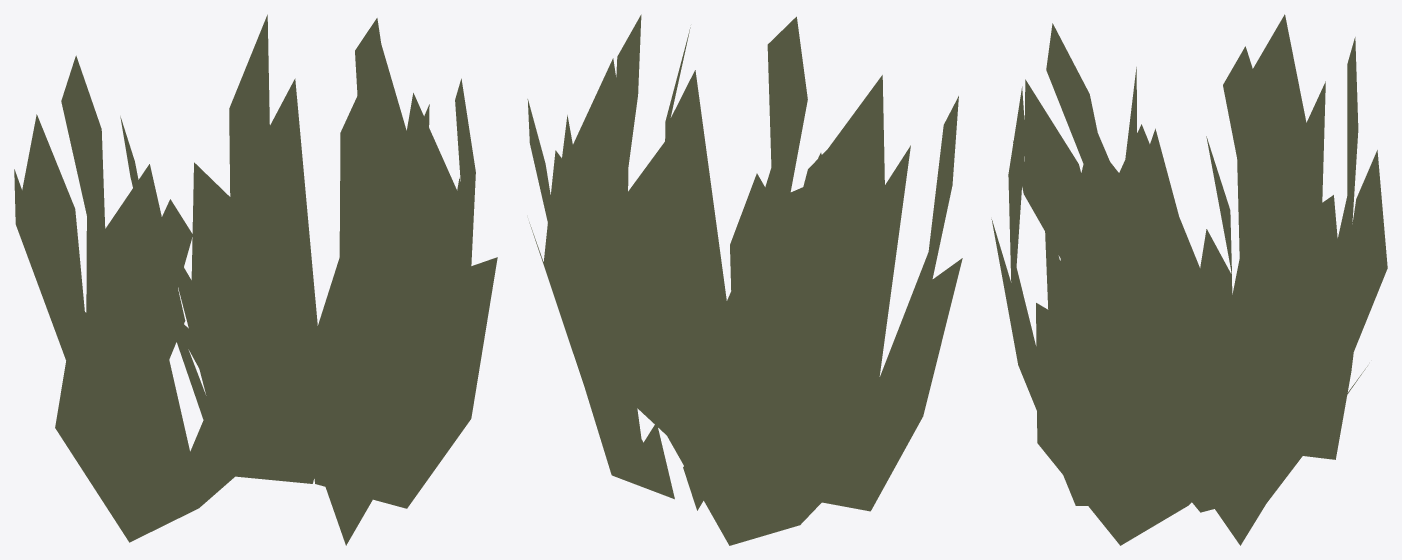
The model's file is SM_shrub_flower_01.FBX.
3 views of the same model, side by side, from view 1: azimuth 30°, elevation 25°; view 2: azimuth 150°, elevation 25°; view 3: azimuth 270°, elevation 25° (orthographic). The views are drawn at different scales.
Visible parts, largest first — view 1: SM_shrub_flower_01_LOD0; view 2: SM_shrub_flower_01_LOD0; view 3: SM_shrub_flower_01_LOD0.
Boxes of the visible parts, bbox=[...] form: SM_shrub_flower_01_LOD0: bbox=[14, 14, 497, 545]; SM_shrub_flower_01_LOD0: bbox=[527, 14, 962, 545]; SM_shrub_flower_01_LOD0: bbox=[991, 14, 1387, 545].
Size of what is drawn, in the model's own units: 63.08 by 56.49 by 66.
